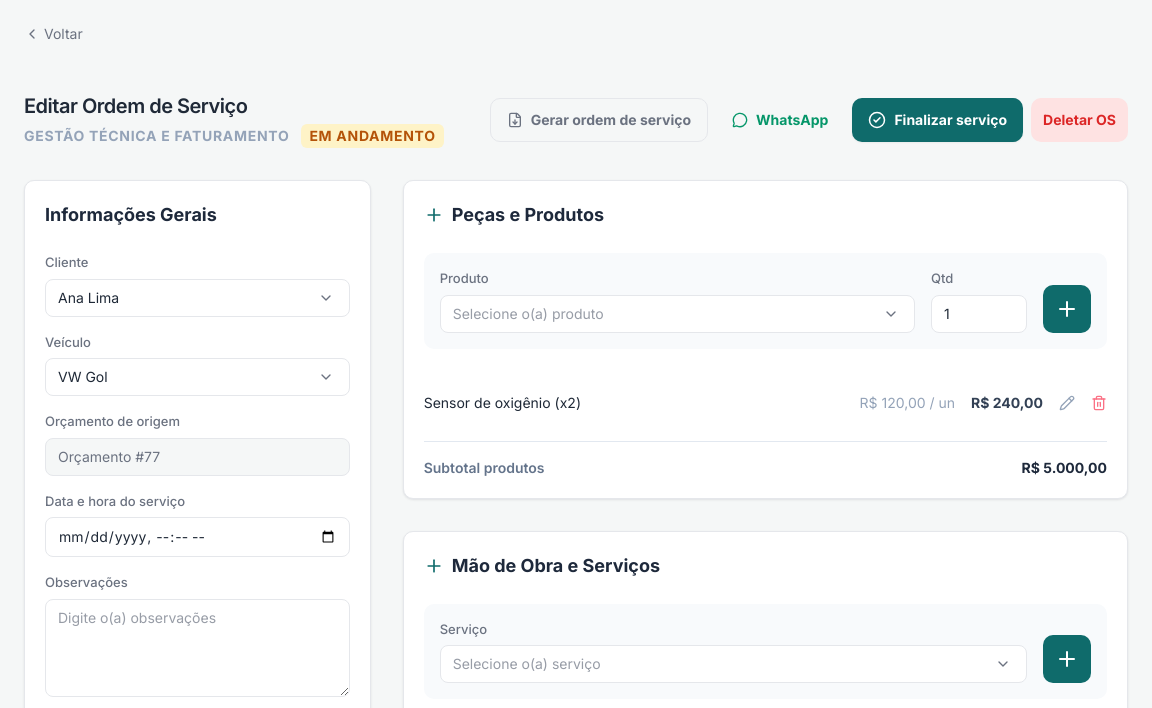
Test: <OrderEdit> — editar item já lançado › altera quantidade e preço de um produto na própria linha
Click the button named "Editar Sensor de oxigênio". click: click(1067, 402)
box: [1059,394,1075,410]
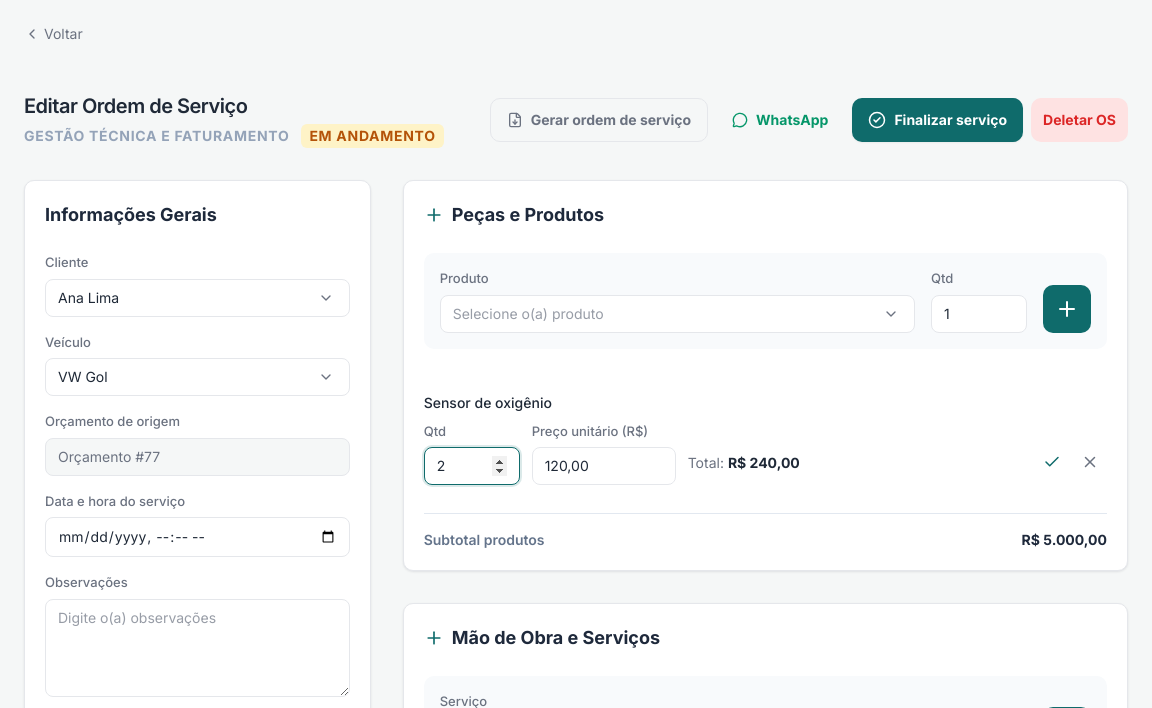
Replace the text in the number field labelled "Qtd" in the row of "Total:" with "3". click: (472, 466)
box: [424,446,520,484]
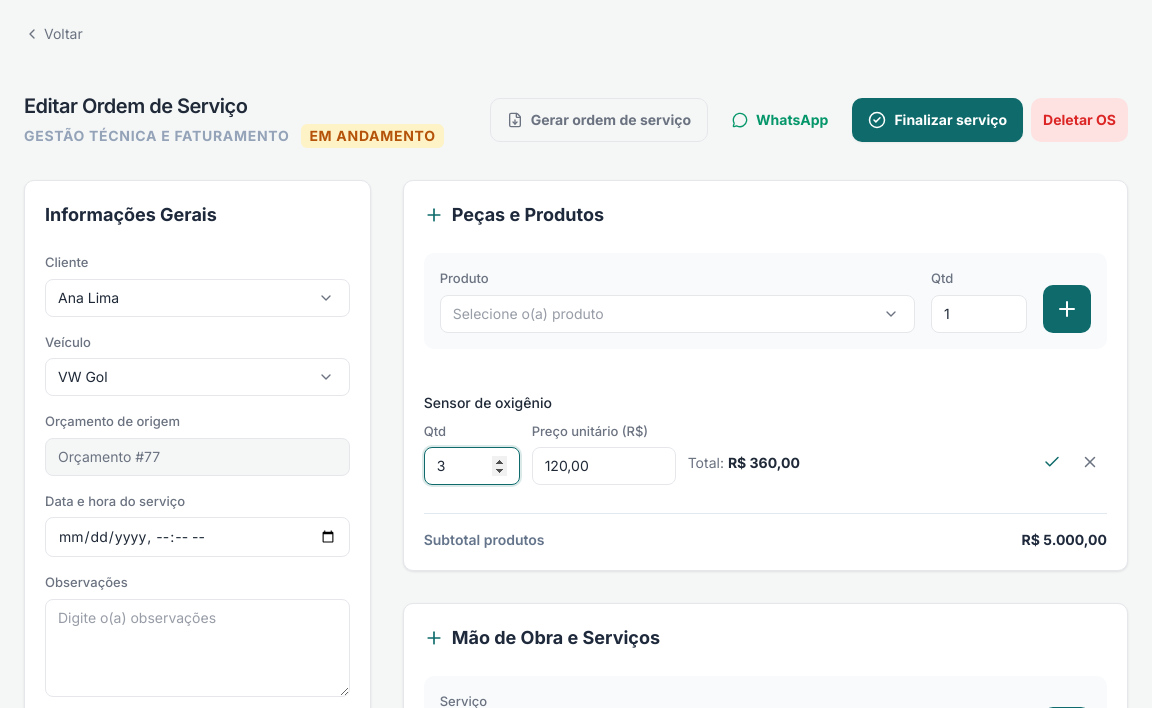
Replace the text in the field labelled "Preço unitário (R$)" with "100". click: (604, 466)
box: [532,446,676,484]
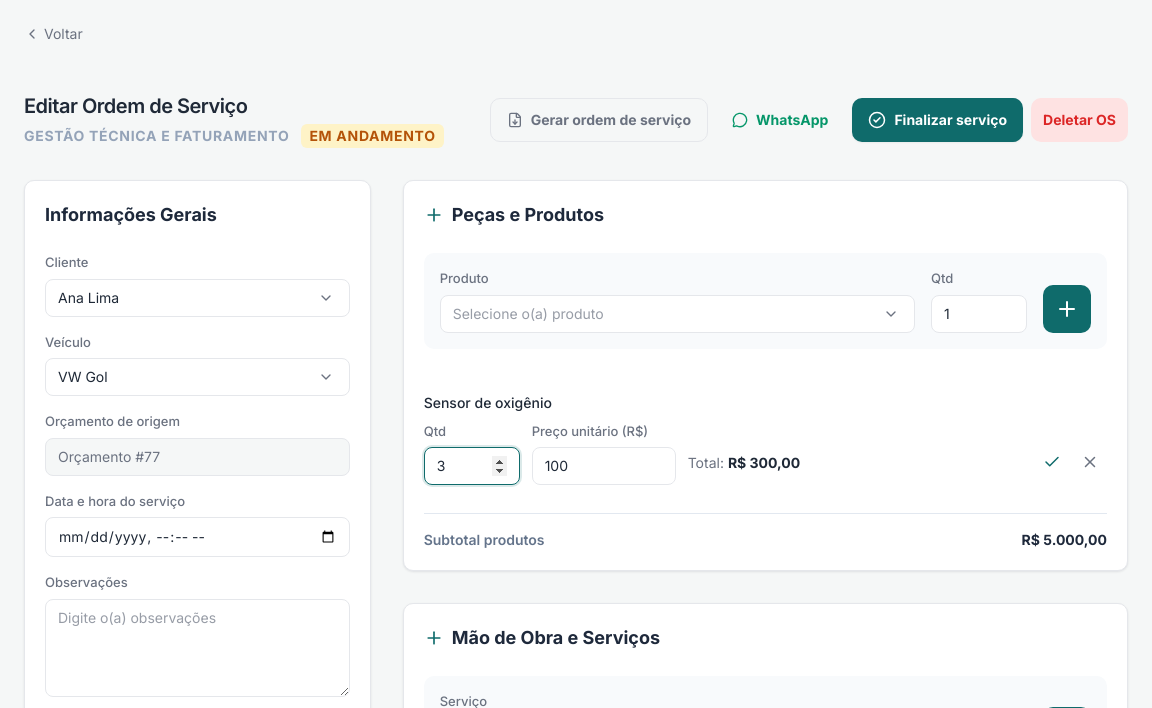
Click the button named "Salvar item". click: click(1052, 462)
box: [1035,444,1069,478]
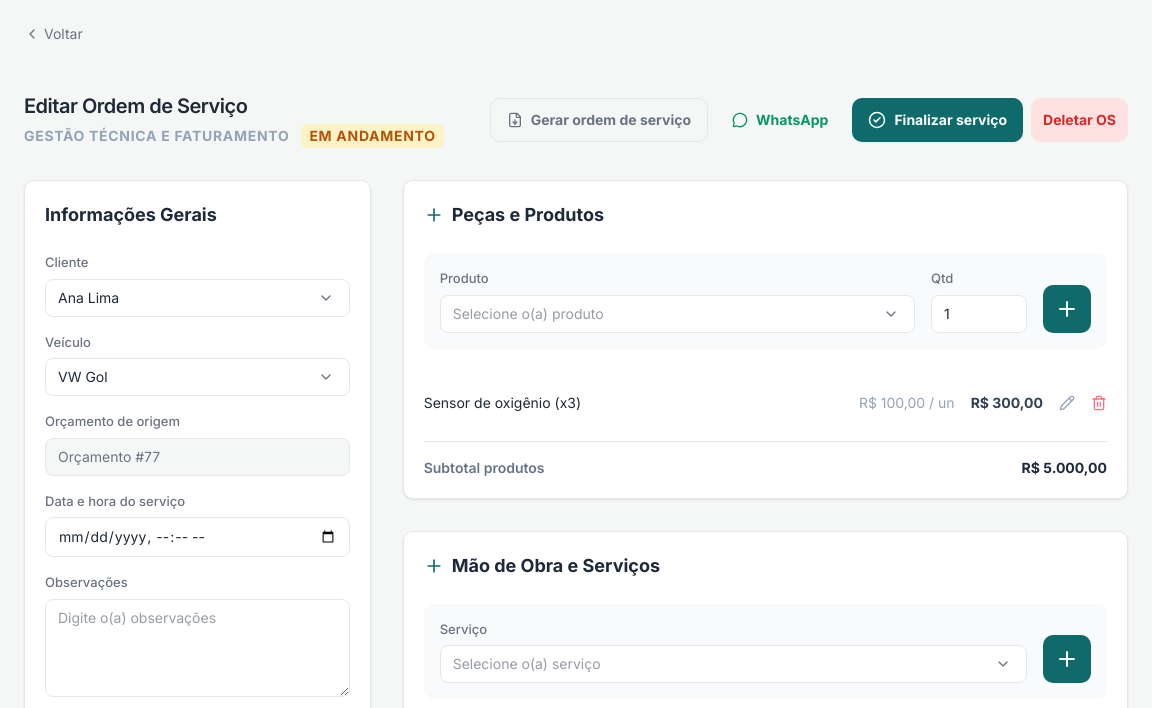
Expected: the text "Sensor de oxigênio (x3)" is shown, [424,392,581,412]
